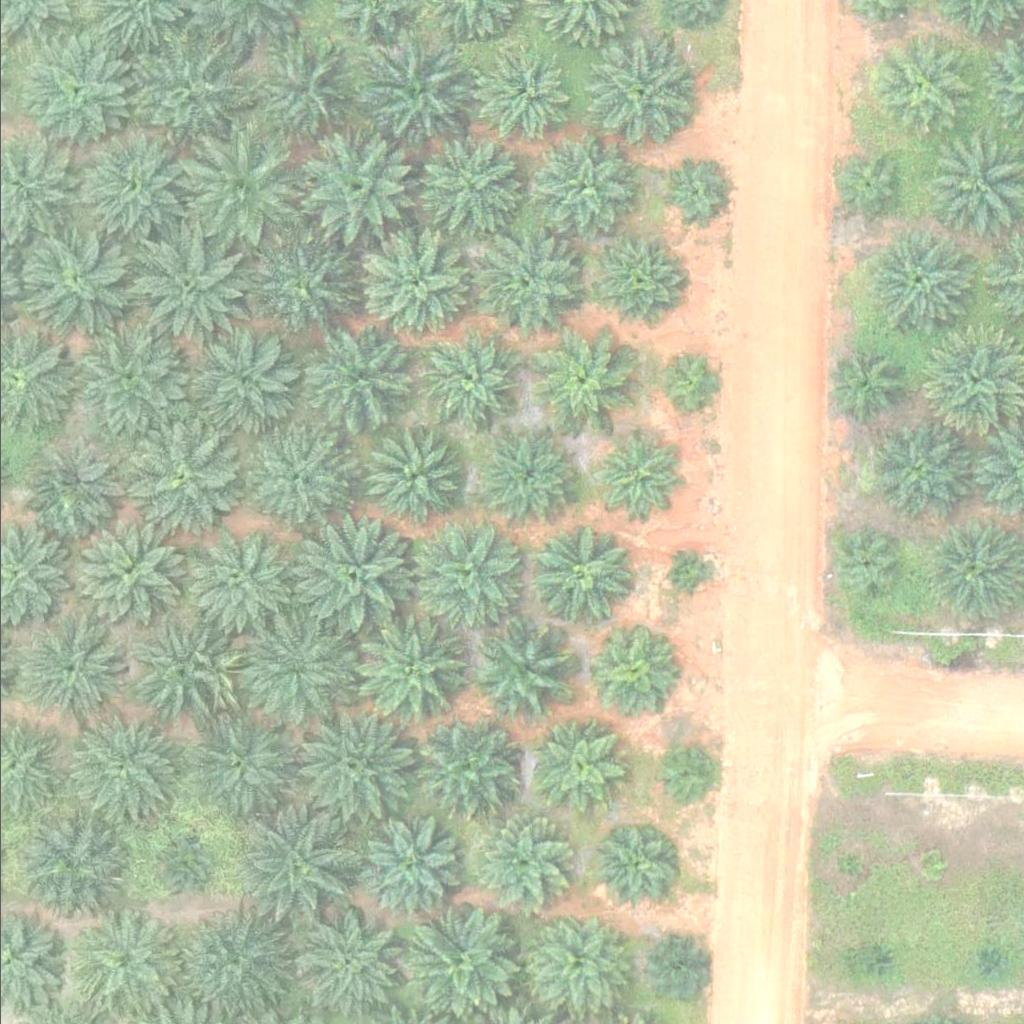Kelapa_Sawit: (359, 27, 485, 152), (240, 26, 366, 151), (124, 26, 250, 151), (290, 127, 416, 252), (172, 125, 298, 250), (124, 222, 250, 347), (286, 510, 412, 635), (229, 603, 355, 728), (287, 699, 413, 824), (228, 804, 354, 929), (10, 218, 136, 343), (70, 125, 196, 250), (13, 28, 139, 153), (348, 223, 473, 348), (117, 413, 242, 538), (68, 320, 193, 445), (350, 613, 464, 726), (409, 713, 523, 826), (14, 812, 128, 925), (183, 705, 296, 818), (66, 710, 179, 823), (65, 910, 179, 1022), (416, 519, 529, 631), (180, 522, 293, 634), (131, 612, 244, 724), (349, 813, 462, 925), (292, 904, 405, 1016), (18, 614, 131, 726), (867, 420, 968, 520), (869, 233, 970, 333), (870, 37, 971, 137), (591, 46, 692, 146), (470, 40, 571, 140), (534, 137, 635, 237), (422, 137, 523, 237), (477, 232, 578, 332), (250, 240, 351, 340), (530, 334, 631, 434), (415, 329, 516, 429), (301, 330, 402, 430), (197, 334, 298, 434), (478, 426, 579, 526), (362, 428, 463, 528), (246, 425, 347, 525), (74, 522, 175, 622), (468, 809, 569, 909), (527, 913, 628, 1013), (23, 434, 124, 534), (534, 526, 634, 626), (476, 621, 576, 721), (591, 431, 679, 519), (536, 724, 624, 812), (587, 823, 675, 911), (594, 243, 682, 330), (582, 630, 670, 717), (828, 529, 904, 604), (823, 347, 898, 422), (829, 151, 904, 226), (145, 834, 208, 897), (642, 935, 705, 998), (662, 164, 725, 226), (661, 350, 724, 412), (649, 745, 712, 807), (666, 557, 704, 594), (919, 850, 944, 875), (835, 853, 860, 878), (977, 953, 1002, 978), (867, 946, 892, 971)
